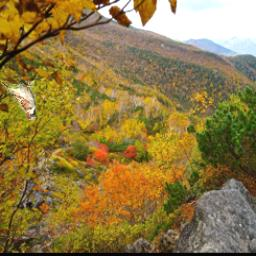Sparrow: (2, 82, 37, 121)
